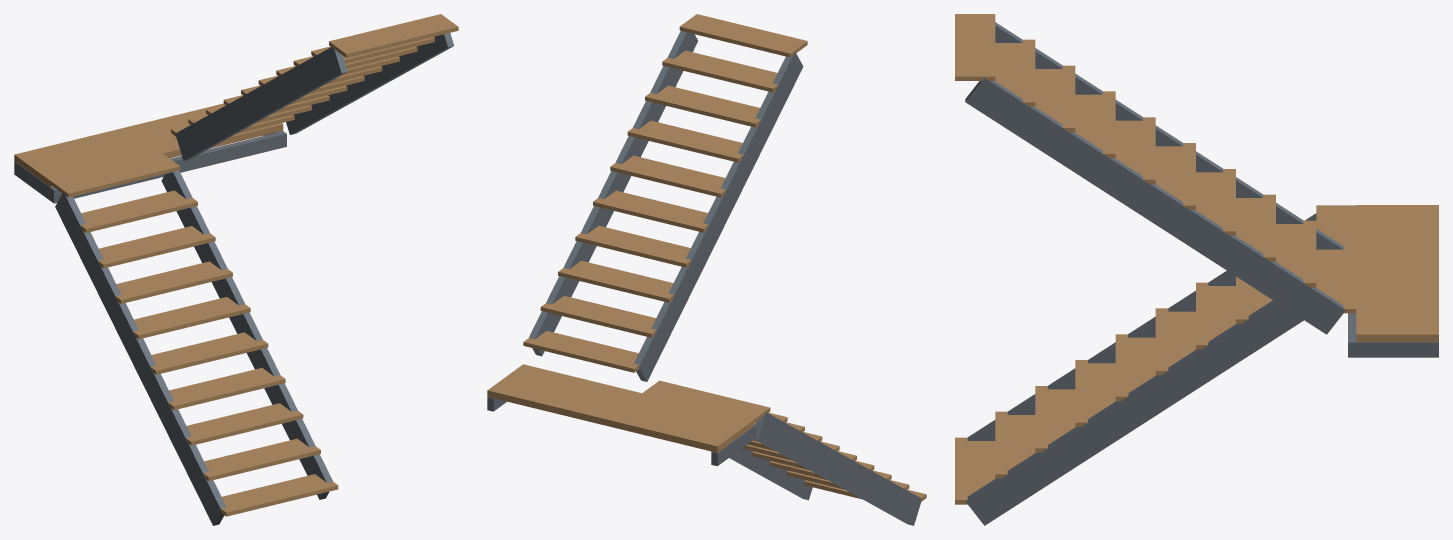
The model's file is steel-stairs.glb.
3 views of the same model, side by side, from view 1: azimuth 30°, elevation 25°; view 2: azimuth 150°, elevation 25°; view 3: azimuth 270°, elevation 25° (orthographic). The views are drawn at different scales.
Parts seen in each view (by area): view 1: material-1-top, material-0-metal; view 2: material-1-top, material-0-metal; view 3: material-1-top, material-0-metal.
Part boxes in pixels (bbox=[...]): material-1-top: bbox=[14, 14, 458, 516]; material-0-metal: bbox=[14, 33, 454, 525]; material-1-top: bbox=[487, 14, 926, 501]; material-0-metal: bbox=[487, 31, 921, 525]; material-1-top: bbox=[955, 14, 1438, 504]; material-0-metal: bbox=[965, 22, 1438, 525].
Bounding box in the file's own units: 1.86 × 3.45 × 2.93.
